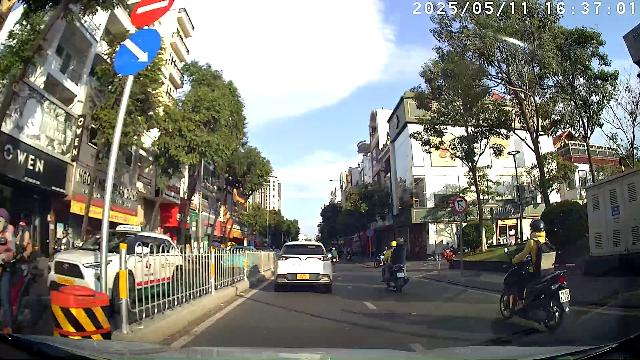103b-cam-oto-re-phai: (453, 196, 467, 214)
